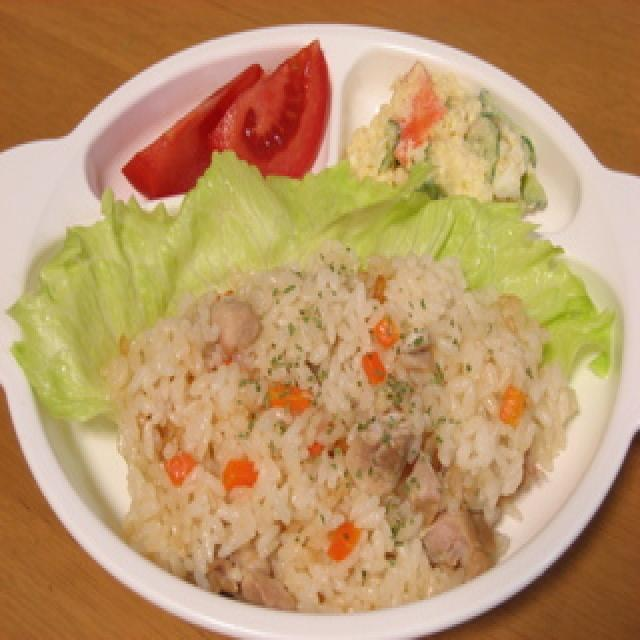米饭主食: (88, 234, 588, 640)
